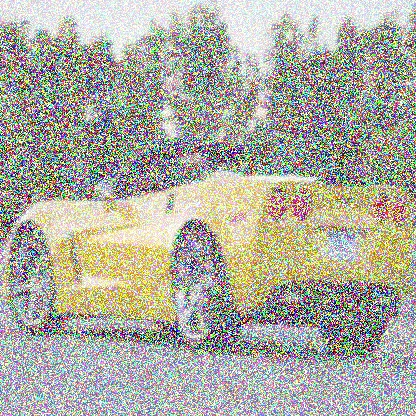Vehicle: (3, 140, 411, 362)
